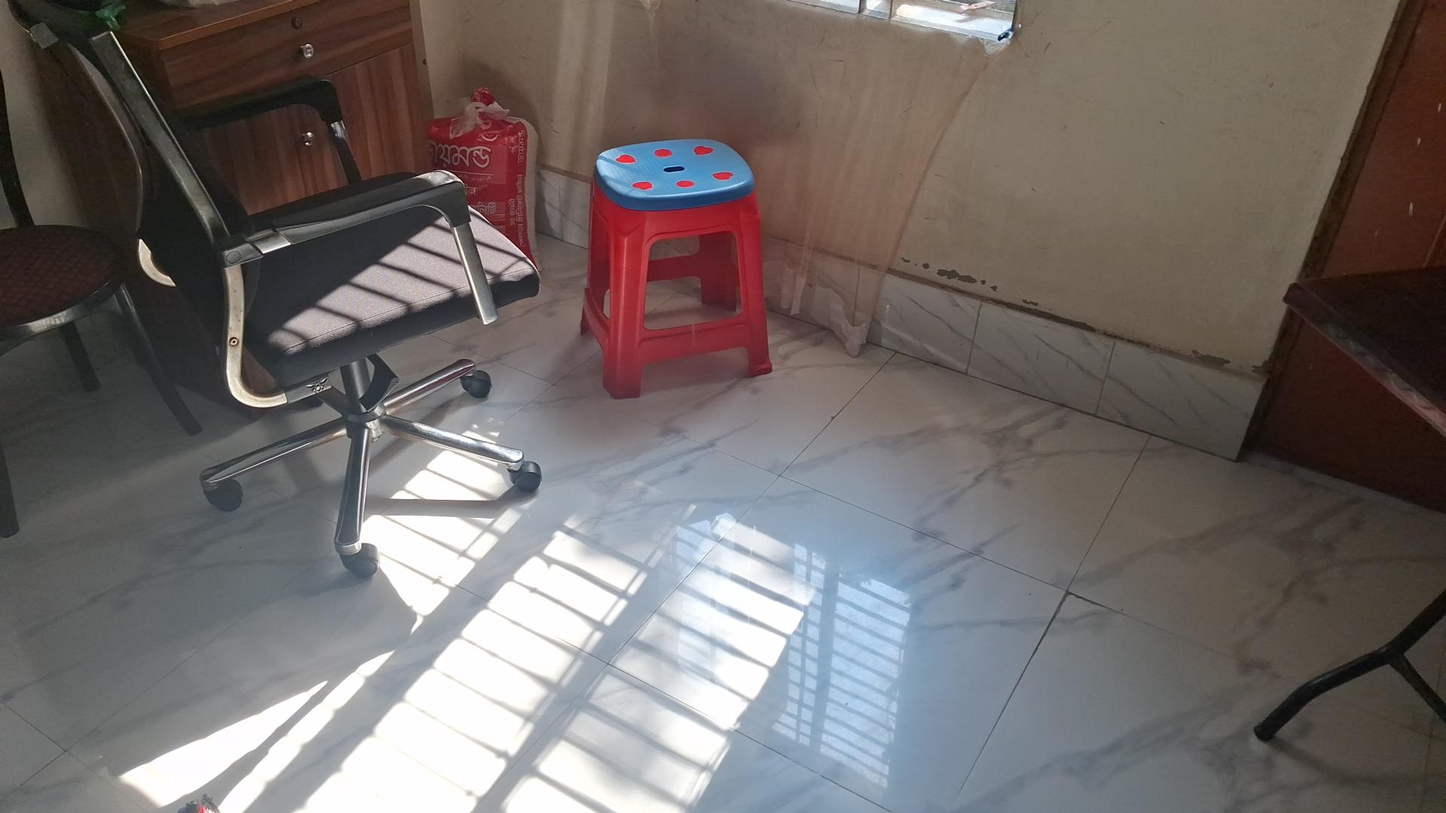Chair: (16, 7, 536, 578), (0, 63, 204, 537)
Stool: (581, 139, 774, 400)
